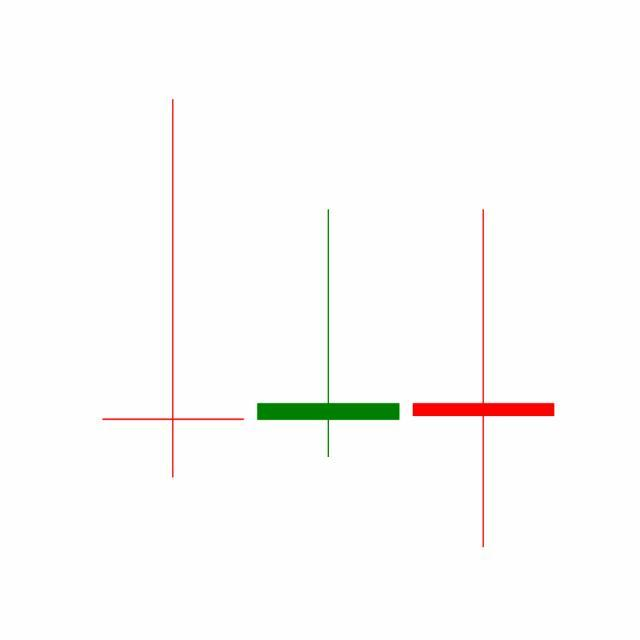Spinning Top: (250, 207, 407, 461)
